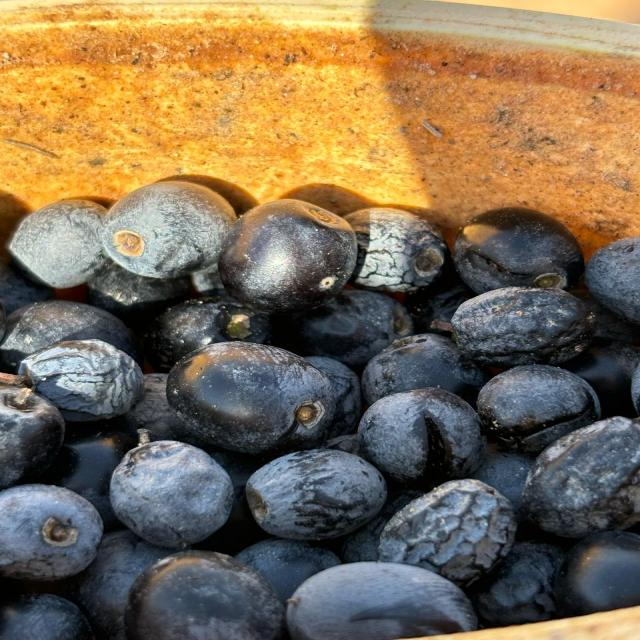Healthy: (287, 562, 477, 640), (125, 550, 284, 640)
Olive Fruit Fly: (219, 199, 357, 314)
